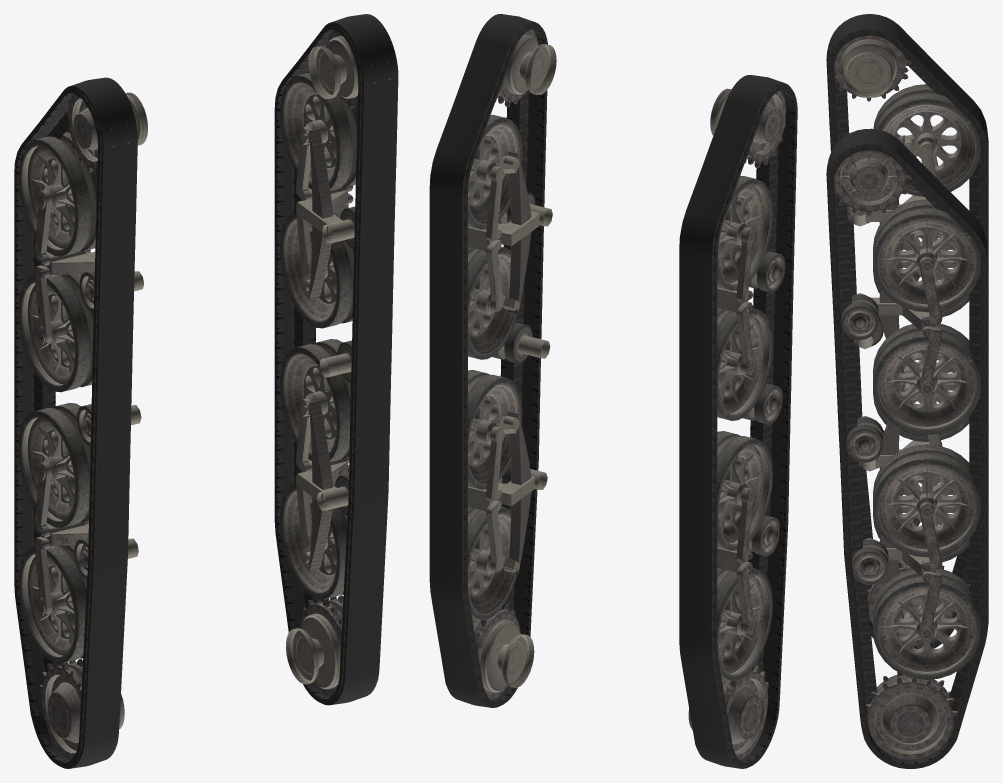
Rendered from Chassis.glb.
The picture shows the model from 3 angles, left to right: view 1: azimuth 30°, elevation 25°; view 2: azimuth 150°, elevation 25°; view 3: azimuth 270°, elevation 25°; orthographic projection. The views are drawn at different scales.
Visible parts, largest first — view 1: set_2_group_0, set_3_group_0, set_1_group_0, set_0_group_0; view 2: set_1_group_0, set_0_group_0, set_3_group_0, set_2_group_0; view 3: set_3_group_0, set_0_group_0, set_2_group_0, set_1_group_0.
Boxes of the visible parts, x1=… form: set_2_group_0: x1=18, y1=92, x2=147, y2=759; set_3_group_0: x1=280, y1=30, x2=390, y2=697; set_1_group_0: x1=14, y1=77, x2=137, y2=768; set_0_group_0: x1=274, y1=14, x2=398, y2=705; set_1_group_0: x1=679, y1=75, x2=797, y2=768; set_0_group_0: x1=429, y1=14, x2=547, y2=707; set_3_group_0: x1=468, y1=29, x2=556, y2=700; set_2_group_0: x1=688, y1=88, x2=785, y2=760; set_3_group_0: x1=827, y1=150, x2=980, y2=759; set_0_group_0: x1=826, y1=128, x2=988, y2=768; set_2_group_0: x1=827, y1=35, x2=980, y2=646; set_1_group_0: x1=826, y1=14, x2=988, y2=648.
Bounding box in the file's own units: 2.16 × 4.61 × 1.08.
4 materials, 4 textured.
